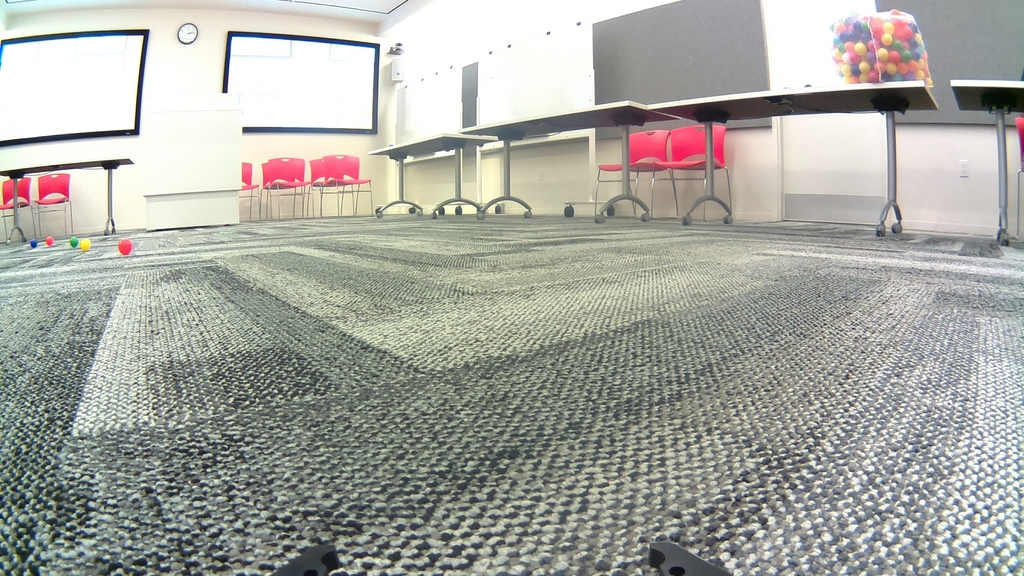ball: (80, 239, 89, 253)
